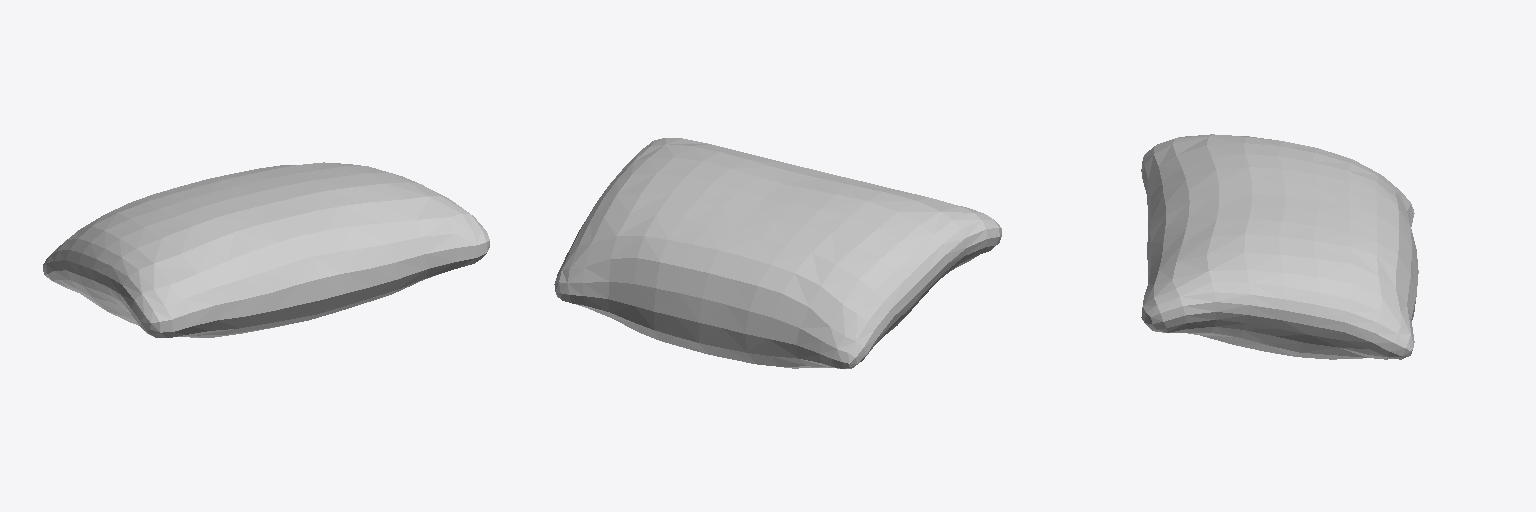
Rendered from pillowuv.obj.
The picture shows the model from 3 angles: view 1: azimuth 30°, elevation 25°; view 2: azimuth 150°, elevation 25°; view 3: azimuth 270°, elevation 25°; orthographic projection.
Visible parts, largest first — view 1: RoadKillOut; view 2: RoadKillOut; view 3: RoadKillOut.
Part boxes in pixels (bbox=[...]): RoadKillOut: bbox=[43, 162, 489, 337]; RoadKillOut: bbox=[554, 138, 1001, 368]; RoadKillOut: bbox=[1141, 134, 1418, 359].
Bounding box in the file's own units: 2.63 × 0.9161 × 1.82.